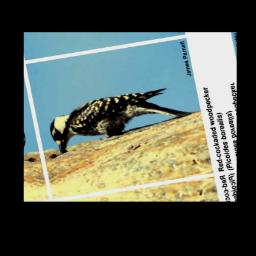Woodpecker: (44, 81, 197, 158)
